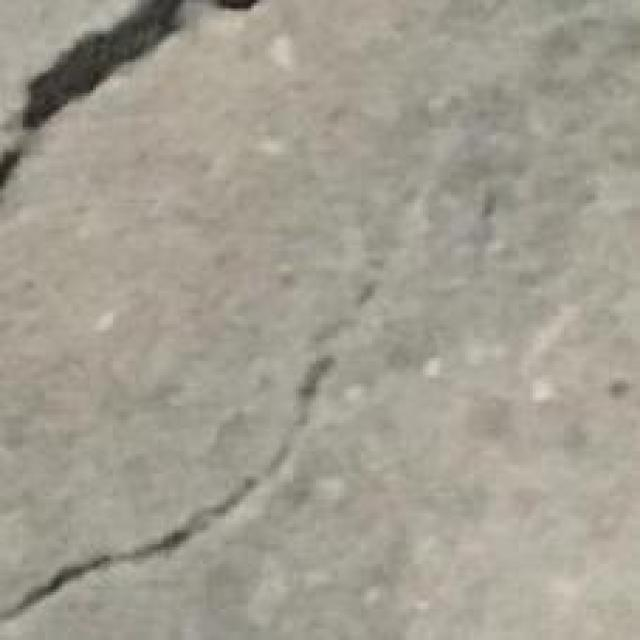Crack: (0, 350, 420, 634), (4, 4, 261, 219)
